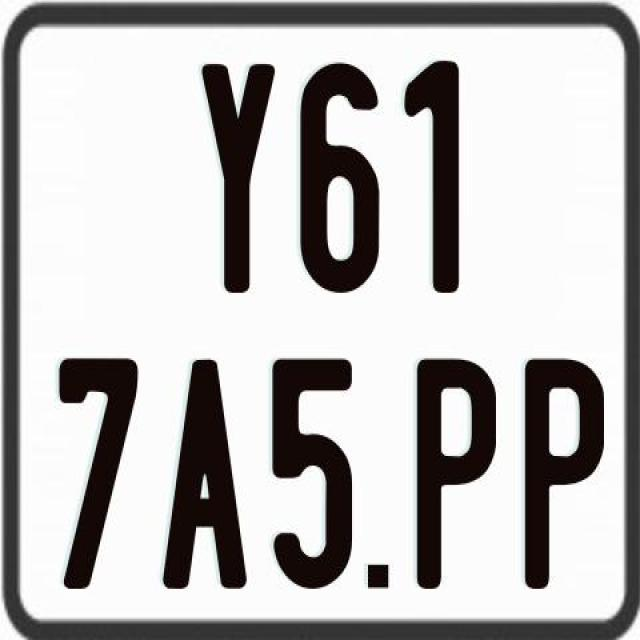1: (402, 56, 458, 296)
5: (270, 353, 354, 584)
6: (298, 61, 384, 300)
7: (54, 356, 140, 590)
A: (162, 358, 255, 588)
P: (413, 353, 498, 584), (521, 355, 603, 587)
Y: (197, 61, 272, 296)
